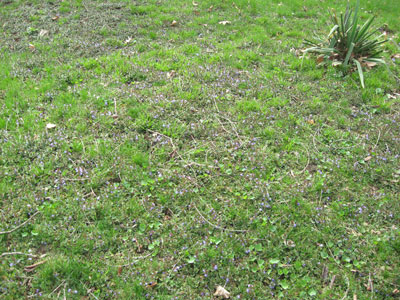crabgrass: (122, 115, 190, 143)
